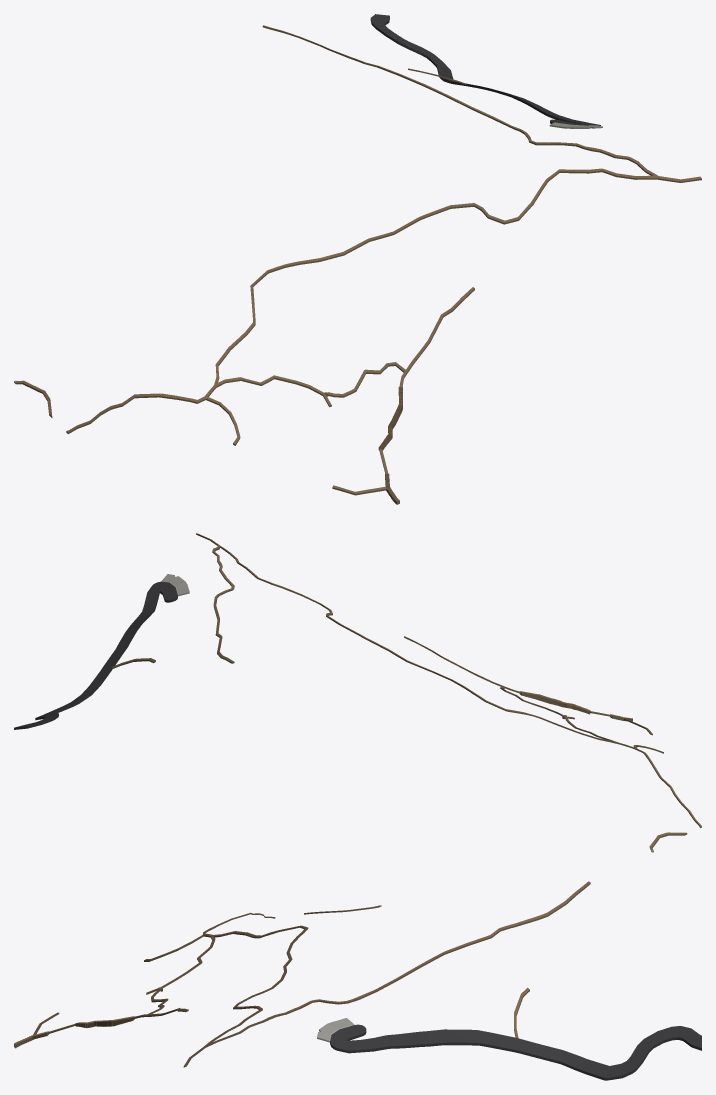
3 renders of one model, top to bottom at view 1: azimuth 30°, elevation 25°; view 2: azimuth 150°, elevation 25°; view 3: azimuth 270°, elevation 25°, orthographic. The views are drawn at different scales.
Size of the model in its own units: 293 by 112 by 292.
